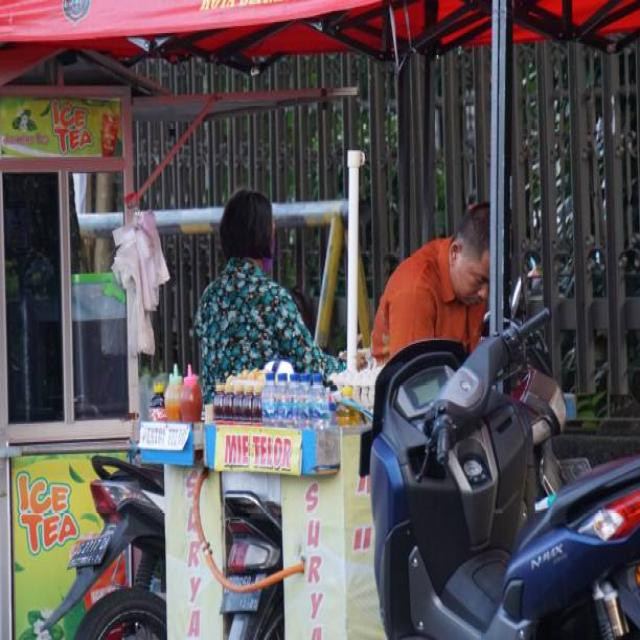Emperan: (95, 235, 532, 640)
